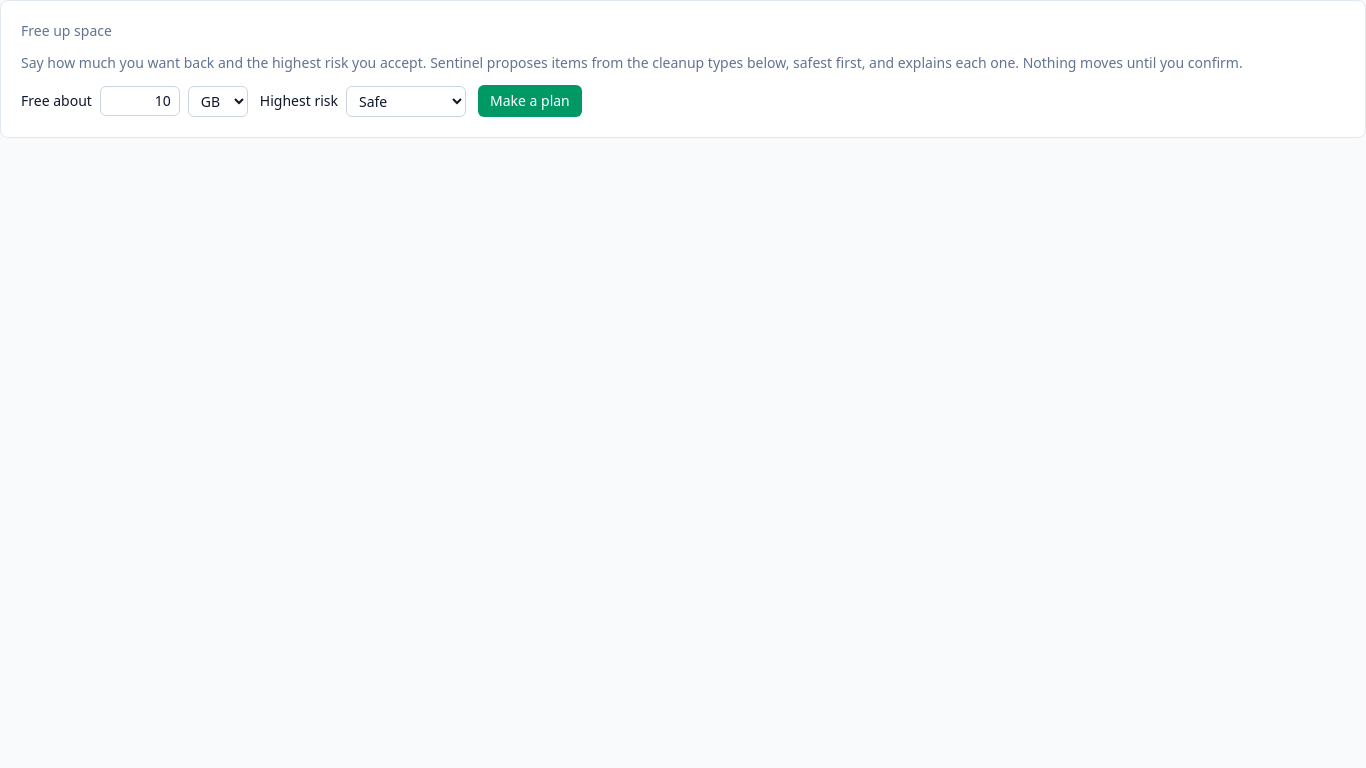
Test case: running a plan › shows a source that could not be run
The image size is (1366, 768).
Click the button "Make a plan" at coordinates (530, 101), box [478,85,582,117]
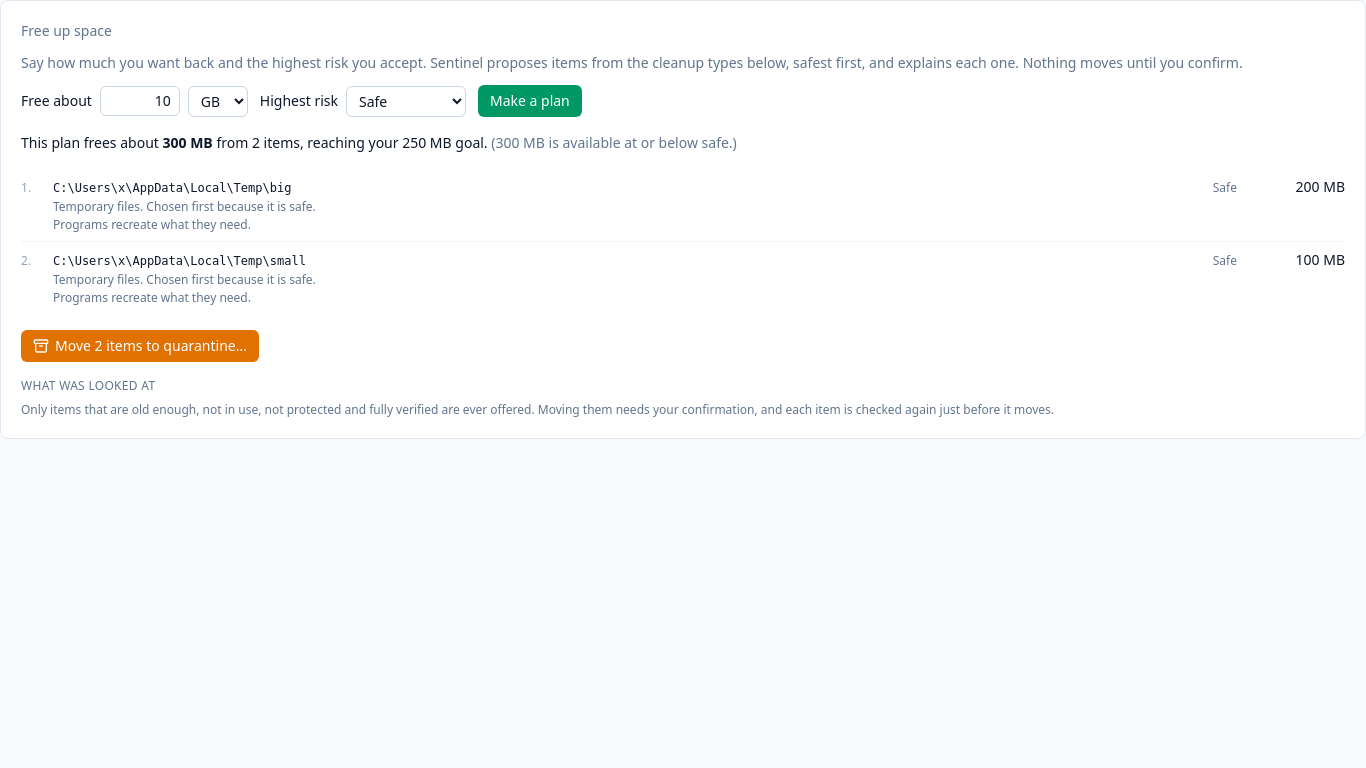
Click the button "Move 2 items to quarantine…" at coordinates (140, 346), box [21,330,259,362]
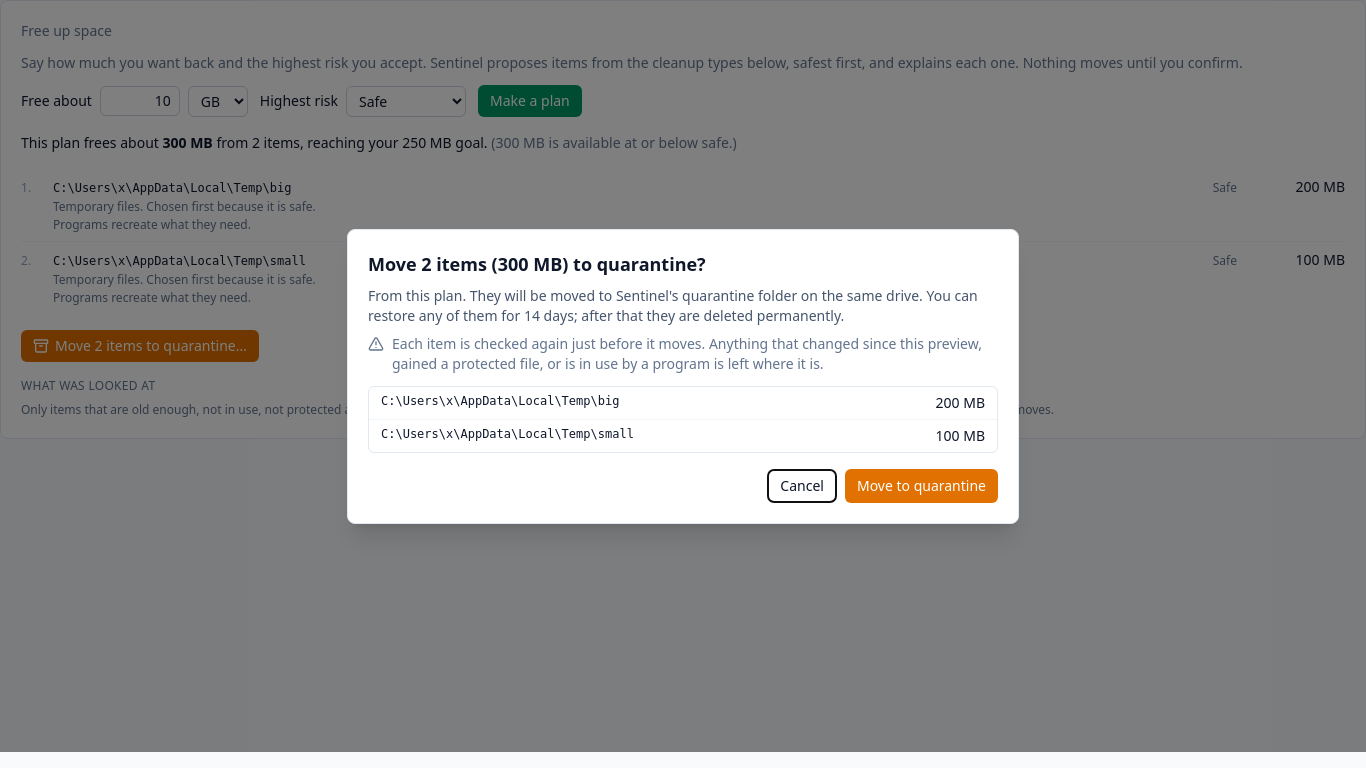
Click the button "Move to quarantine" at coordinates (922, 486), box [845,468,998,502]
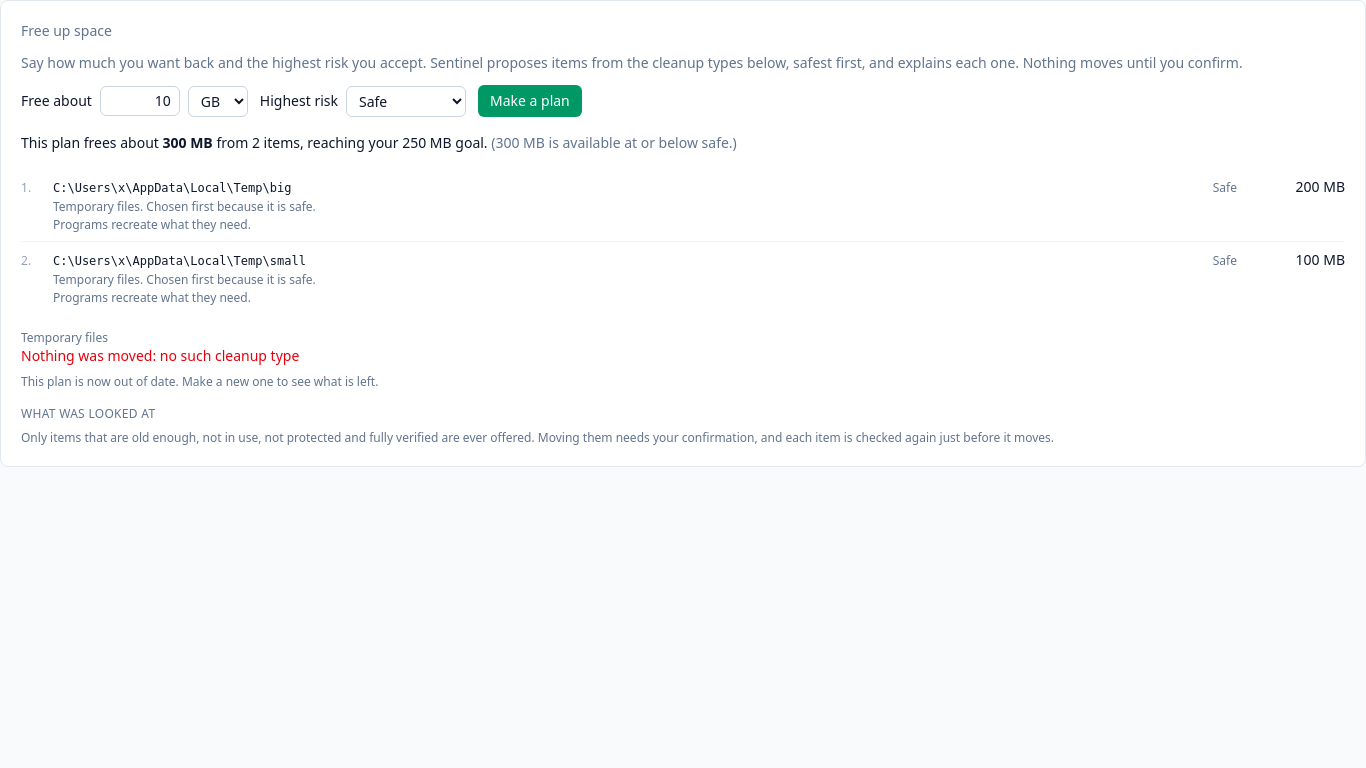
Now the message reads "Nothing was moved: no such cleanup type", box [21,346,299,365]
